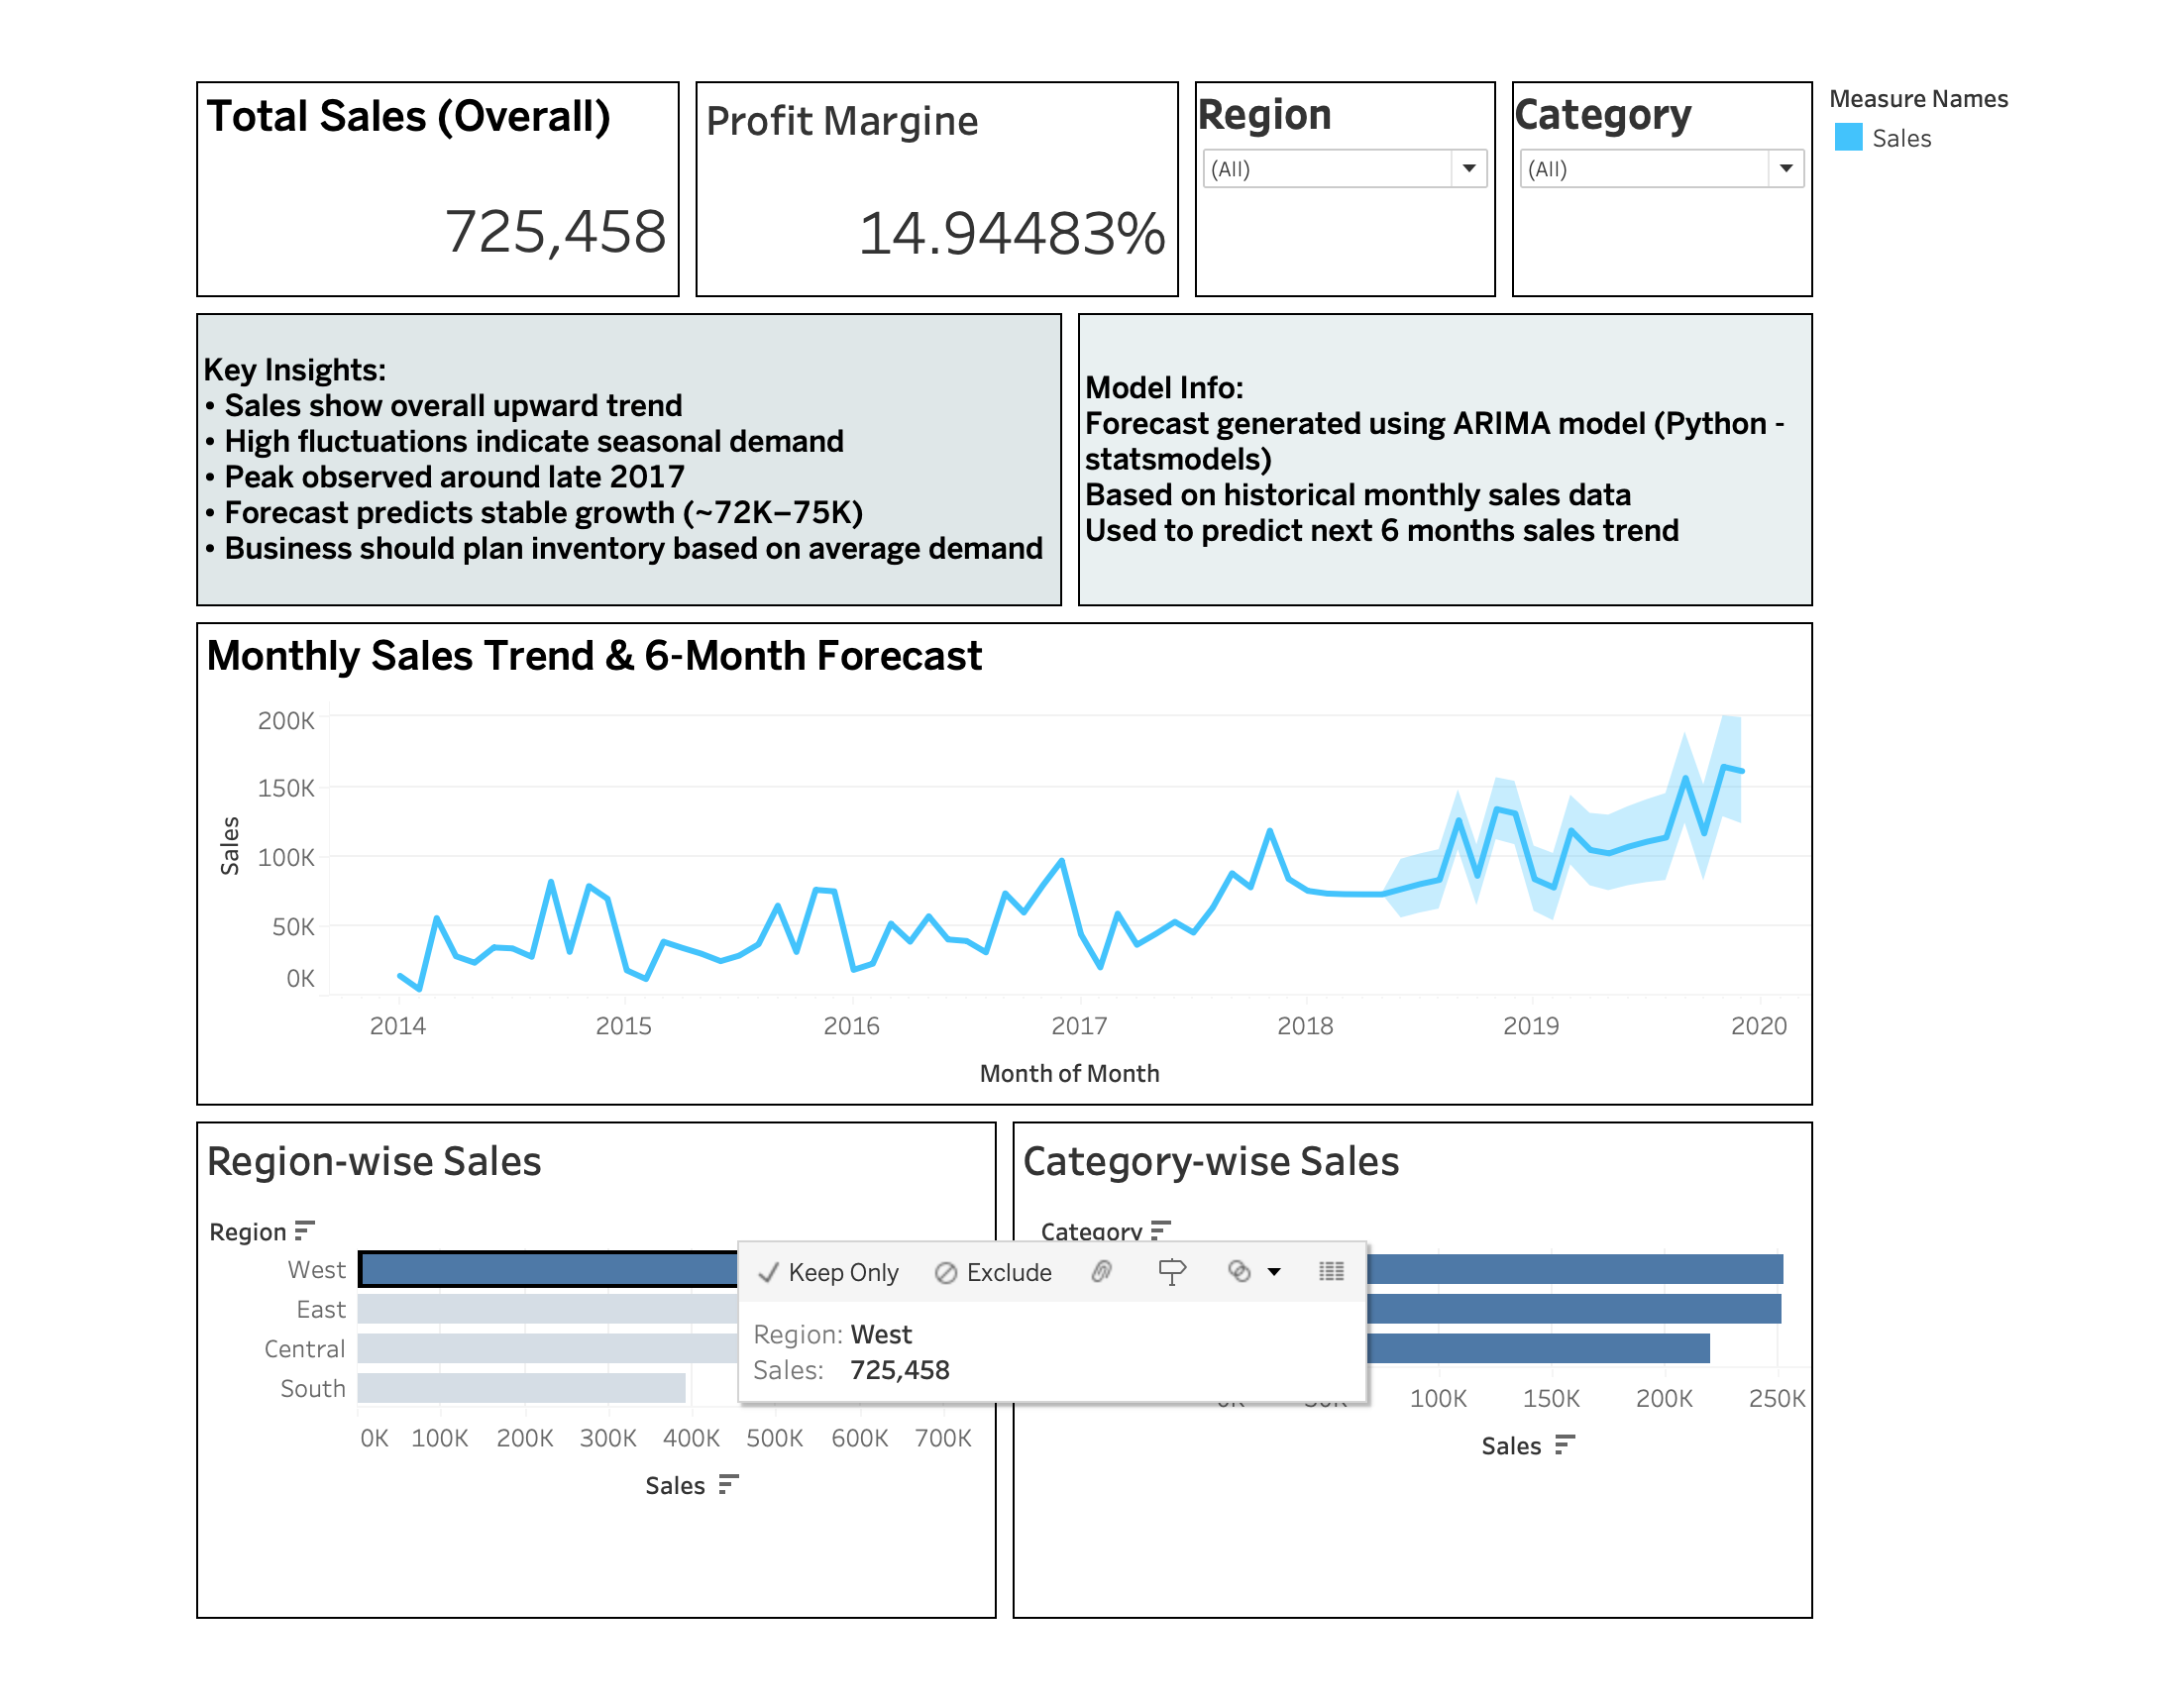

Layout of this report page (visuals, bound fields, positions):
{"tool":"tableau","page":{"name":"Dashboard 1","canvas":[1000,800],"ordinal":0},"visuals":[{"type":"worksheet","title":"Total Sales","mark":"Automatic","box":[8,8,252,117]},{"type":"worksheet","title":"Profit Margine","mark":"Automatic","box":[260,8,252,117]},{"type":"filter","title":"Category-wise Sales","param":"[federated.1a502ai1mykpgk1ame1si0mtezkg].[none:Region:nk]","box":[512,8,160,117]},{"type":"filter","title":"Category-wise Sales","param":"[federated.1a502ai1mykpgk1ame1si0mtezkg].[none:Category:nk]","box":[672,8,160,117]},{"type":"legend","title":"Monthly Sales & Forecast","param":"[federated.1mq6czb1j02w8m0zl9nbn1at79vc].[:Measure Names]","box":[832,8,160,46]},{"type":"text","box":[8,125,445,156]},{"type":"text","box":[453,125,379,156]},{"type":"worksheet","title":"Monthly Sales & Forecast","mark":"Automatic","rows":["Sales"],"cols":["Month"],"box":[8,281,824,252]},{"type":"worksheet","title":"Region-wise Sales","mark":"Automatic","rows":["Region"],"cols":["Sales"],"box":[8,533,412,259]},{"type":"worksheet","title":"Category-wise Sales","mark":"Automatic","rows":["Category"],"cols":["Sales"],"box":[420,533,412,259]}]}

Visuals, with their boxes in screenshot pixels (x1, y1, x2, y2), scaled from the page's 1000x800 canvas onto the 2162x1708 screenshot:
"Total Sales" worksheet: 17:17:562:267
"Profit Margine" worksheet: 562:17:1107:267
"Category-wise Sales" filter: 1107:17:1453:267
"Category-wise Sales" filter: 1453:17:1798:267
"Monthly Sales & Forecast" legend: 1798:17:2145:115
text: 17:267:979:600
text: 979:267:1798:600
"Monthly Sales & Forecast" worksheet: 17:600:1798:1138
"Region-wise Sales" worksheet: 17:1138:908:1691
"Category-wise Sales" worksheet: 908:1138:1798:1691
